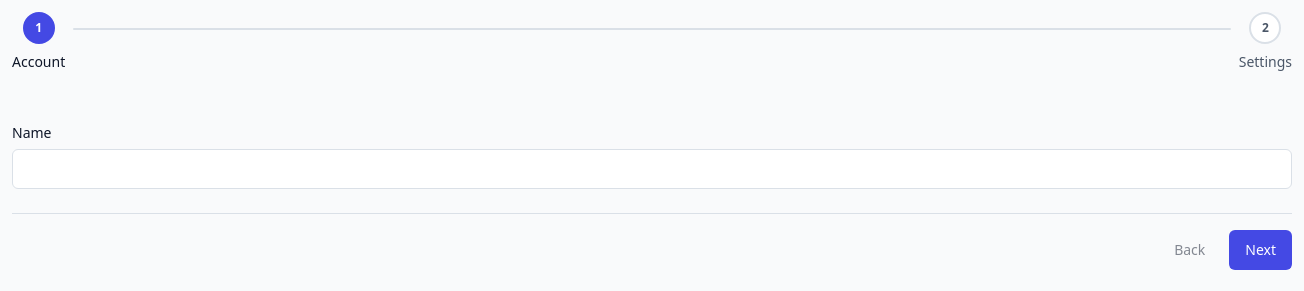
Test case: FormWizard — navigation › hidden step is excluded from indicator and schema slice
The width and height of the screenshot is (1304, 291).
Type "Ada" into the field labelled "Name" at {"x": 652, "y": 169}, box [12,149,1292,189]
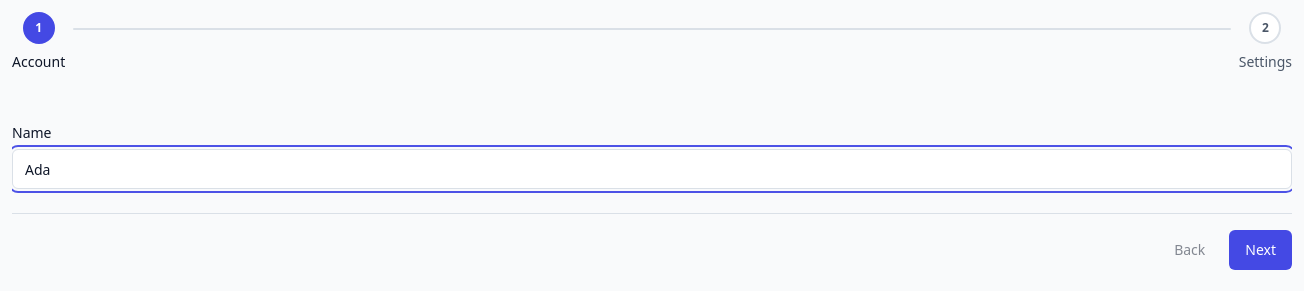
Click the button with test id "wizard-next" at {"x": 1261, "y": 250}, box [1229,230,1292,270]
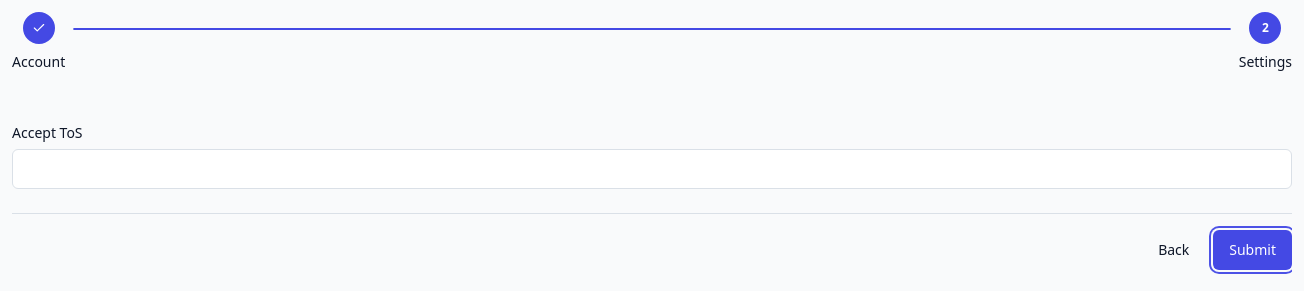
Expected: the field labelled "Accept ToS" is shown, [12,149,1292,189]
